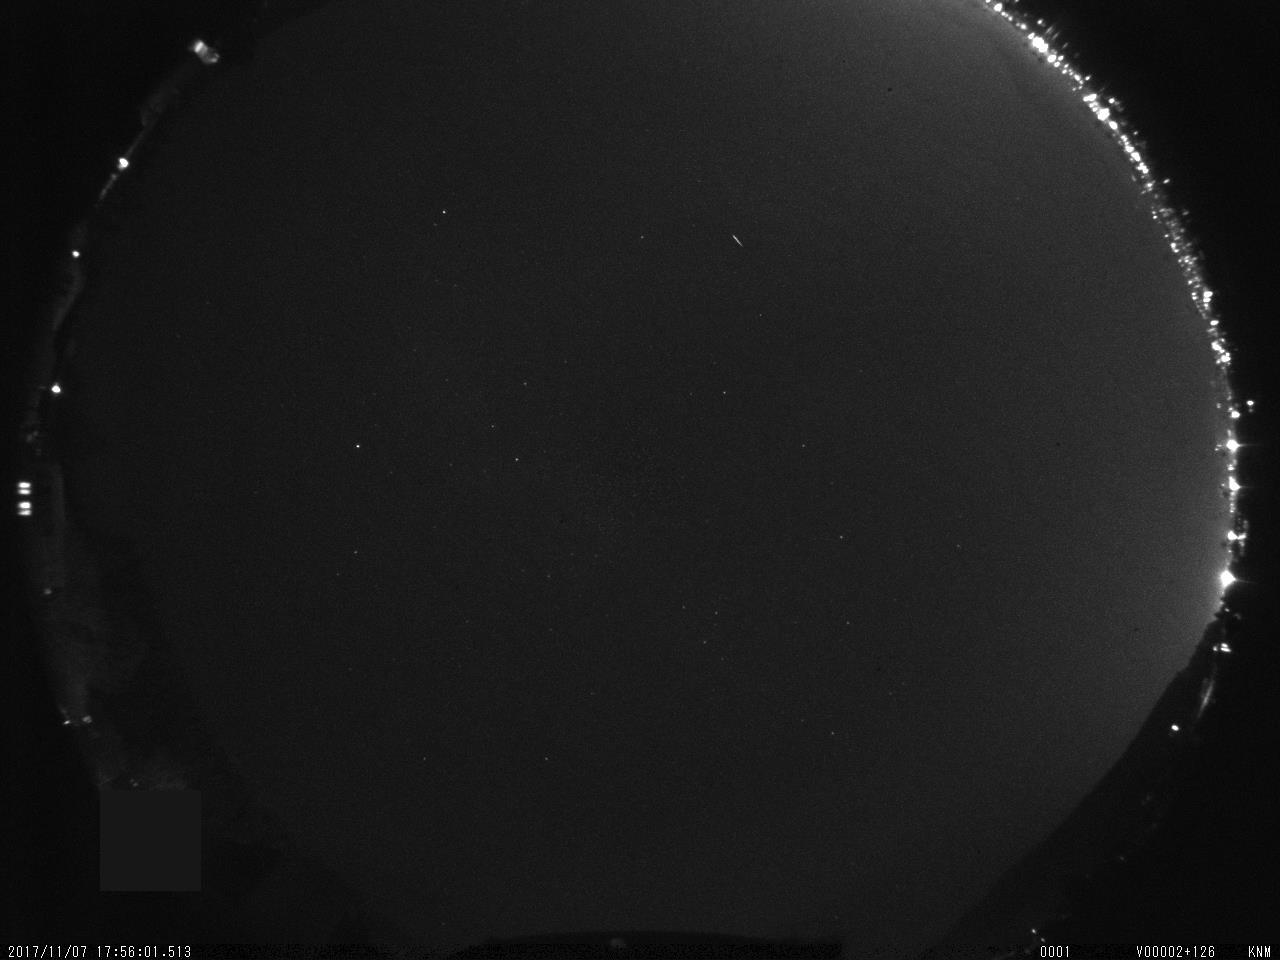meteor: (726, 228, 748, 256)
